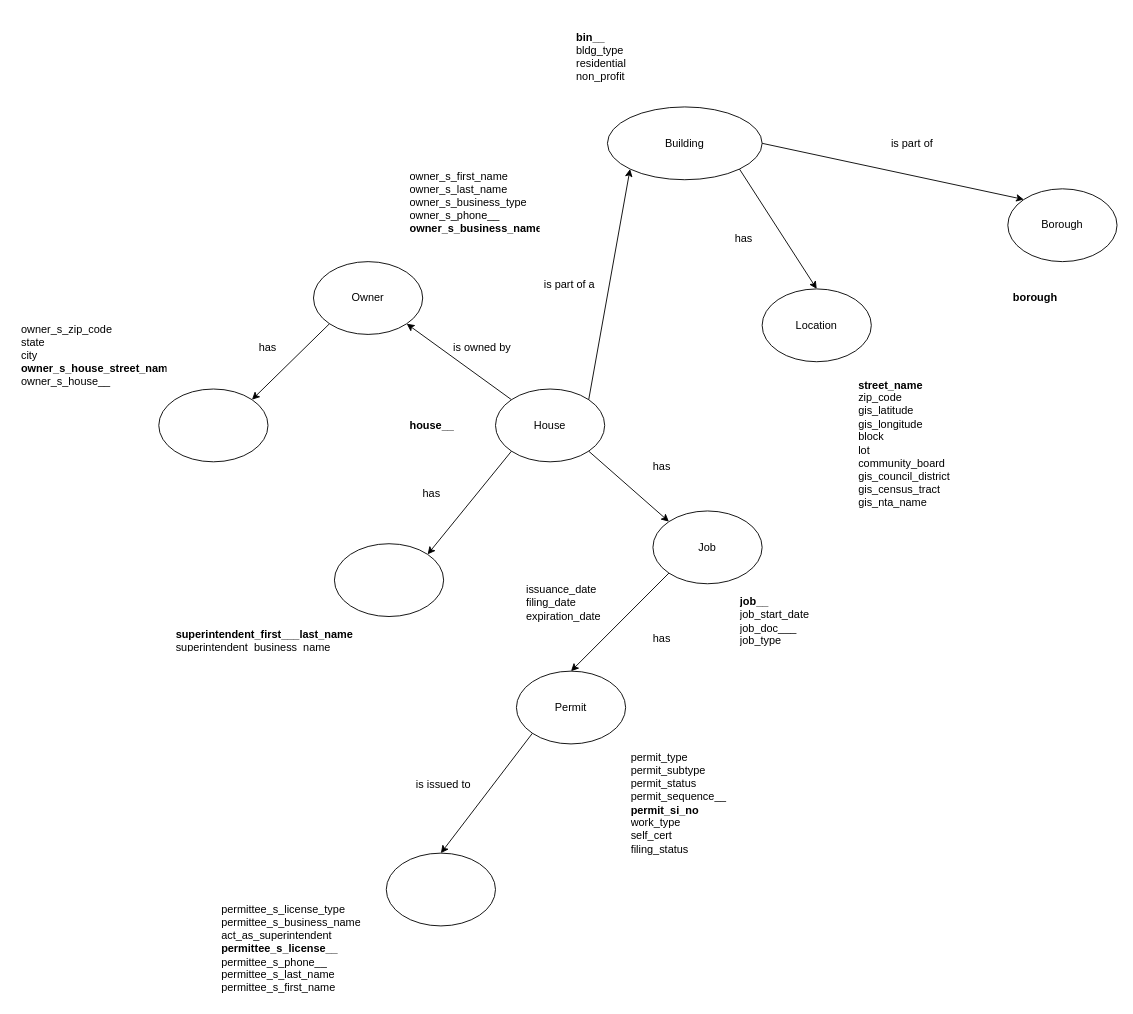
Image size: 1133x1014. Some labels were removed from this diagram. The centre of each missing label's shape, as x and y in pixels:
"Address" belongs at (x=213, y=425).
"Permittee" belongs at (x=440, y=889).
"SuperIntendent" belongs at (x=389, y=580).
